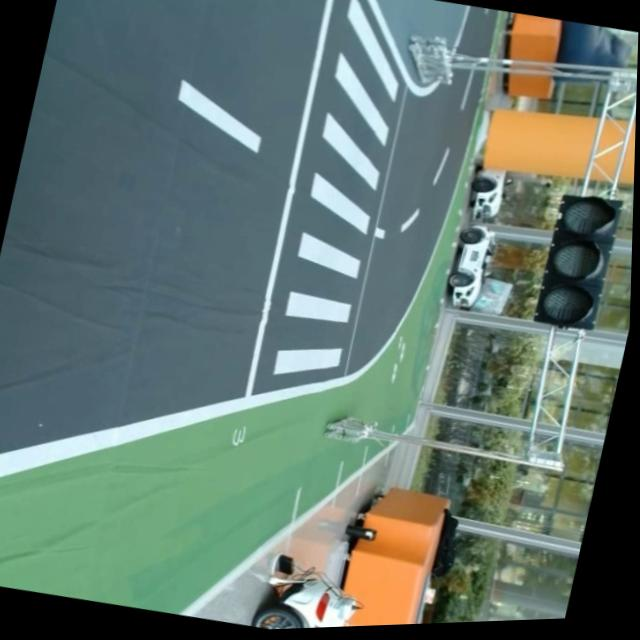traffic-light: (528, 187, 626, 340)
